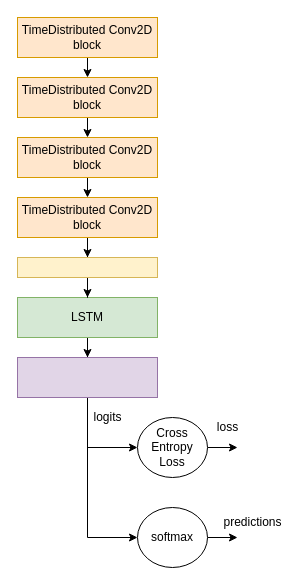
Image size: 305x585. Some labels were removed from this diagram. Each missing label, with the centre of its shape:
"flatten" goes at pixel 87 267.
"Linear" goes at pixel 87 377.
